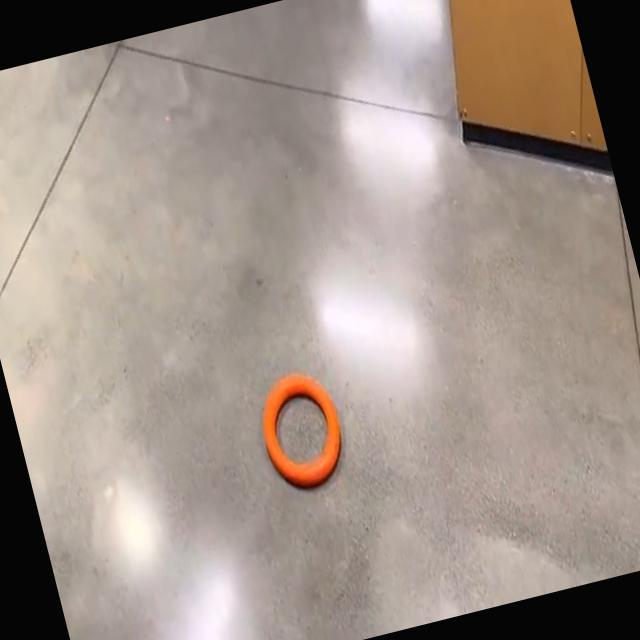note: (262, 374, 340, 484)
